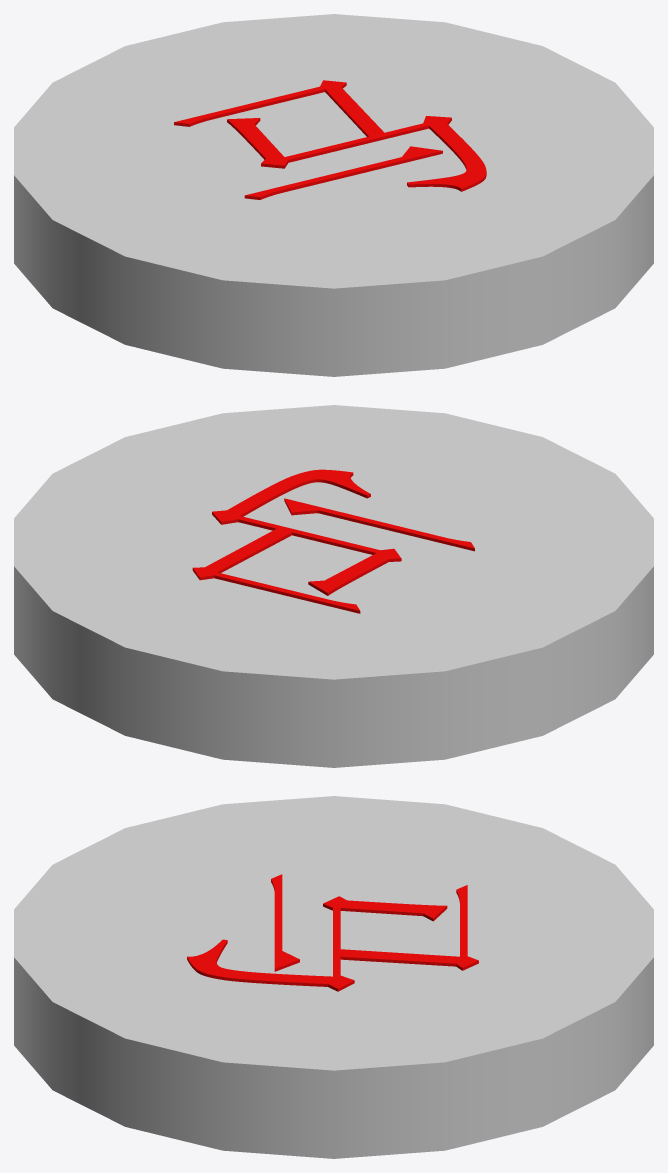
The picture shows the model from 3 angles, top to bottom: view 1: azimuth 30°, elevation 25°; view 2: azimuth 150°, elevation 25°; view 3: azimuth 270°, elevation 25°; orthographic projection.
Visible parts, largest first — view 1: Cylinder001, Text001; view 2: Cylinder001, Text001; view 3: Cylinder001, Text001.
Part boxes in pixels (x1,y1,x2,y2): Cylinder001: [14, 14, 653, 376]; Text001: [174, 80, 486, 199]; Cylinder001: [14, 405, 653, 767]; Text001: [192, 469, 474, 613]; Cylinder001: [14, 796, 653, 1158]; Text001: [187, 874, 478, 991].
Size of the model in its own units: 20 by 19.7 by 3.1.
